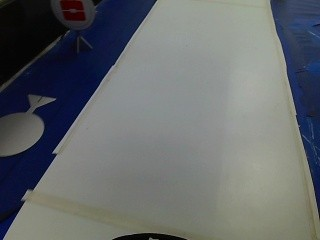company: (47, 0, 95, 30)
